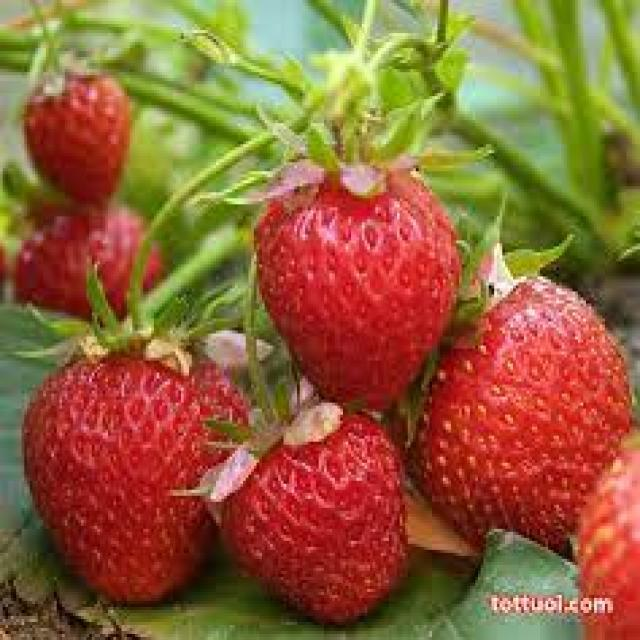Fruta sana: (416, 267, 631, 555), (22, 352, 232, 602), (255, 164, 444, 413), (213, 416, 410, 616), (17, 205, 159, 334), (27, 78, 126, 207)
